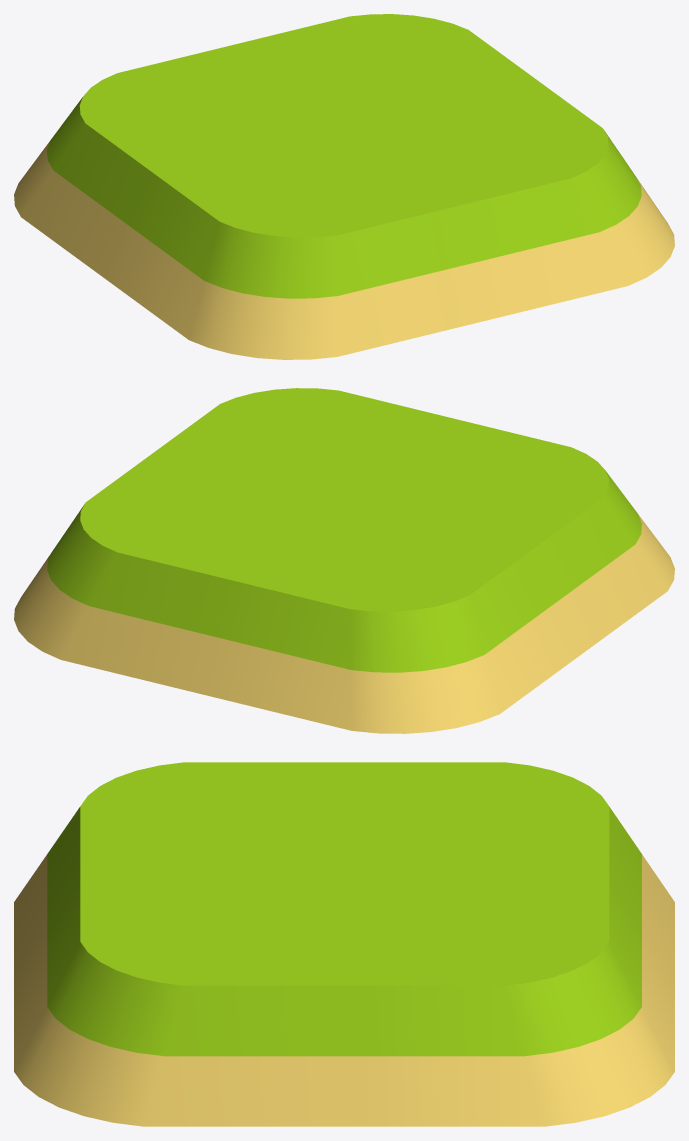
The model's file is grass.glb.
3 views of the same model, one above another, from view 1: azimuth 30°, elevation 25°; view 2: azimuth 150°, elevation 25°; view 3: azimuth 270°, elevation 25° (orthographic). The views are drawn at different scales.
Visible parts, largest first — view 1: IslandGreen_1; view 2: IslandGreen_1; view 3: IslandGreen_1.
Boxes of the visible parts, x1,y1,x2,y2 form: IslandGreen_1: [14, 14, 674, 359]; IslandGreen_1: [14, 388, 674, 733]; IslandGreen_1: [14, 762, 674, 1126].
Bounding box in the file's own units: 3.7 × 0.6982 × 3.7.
Materials: 1 (1 with a texture image).
